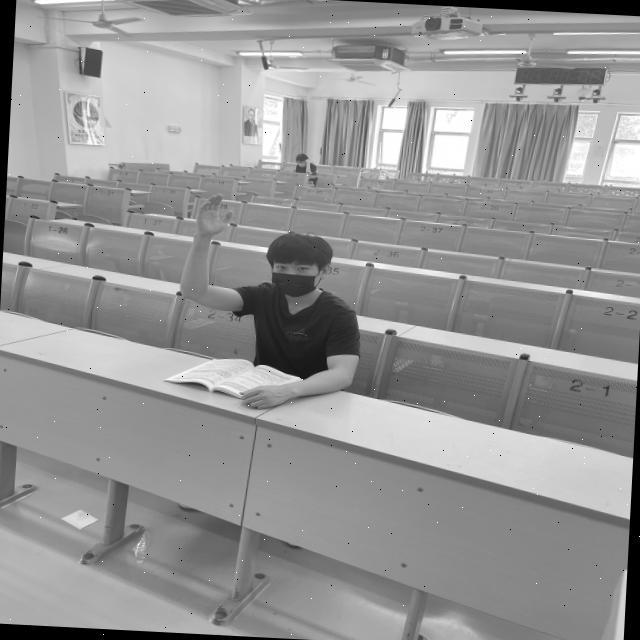study: (172, 191, 371, 414), (290, 153, 315, 176)
